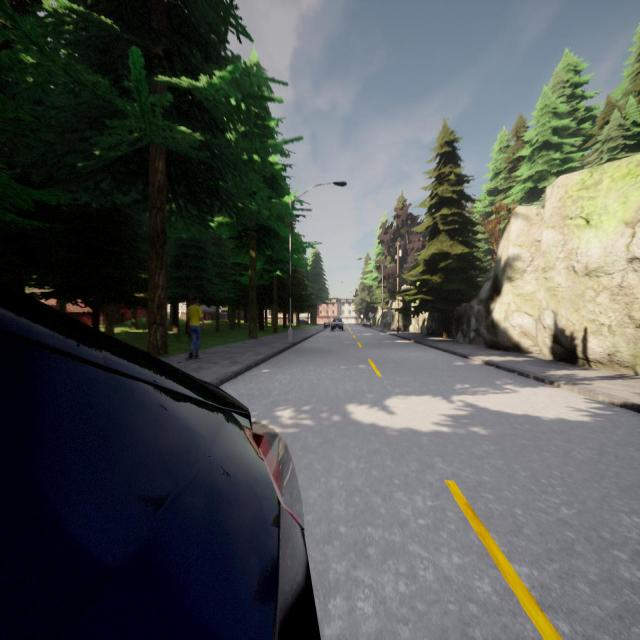Pedestrian: (186, 295, 205, 362)
Traffic_Signs: (360, 314, 363, 319)
Vehicle: (0, 287, 319, 640), (331, 318, 344, 331), (300, 319, 308, 325)
